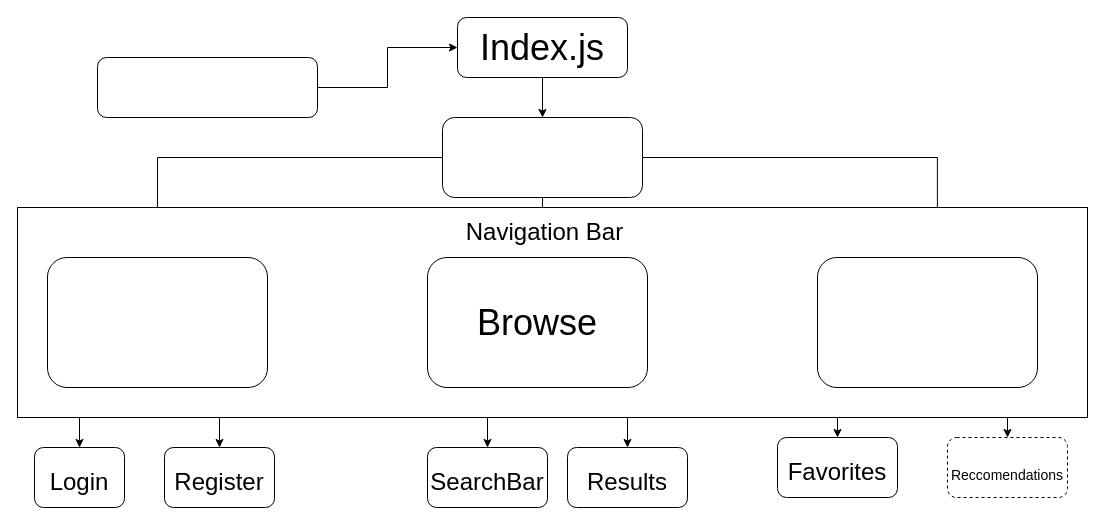
Image size: 1105x525. Some labels were removed from this diagram. Each missing label, with the centre of its shape:
"App" goes at (542,157).
"Home" goes at (157,322).
"Profile" goes at (927,322).
"UserContext" goes at (207,87).
